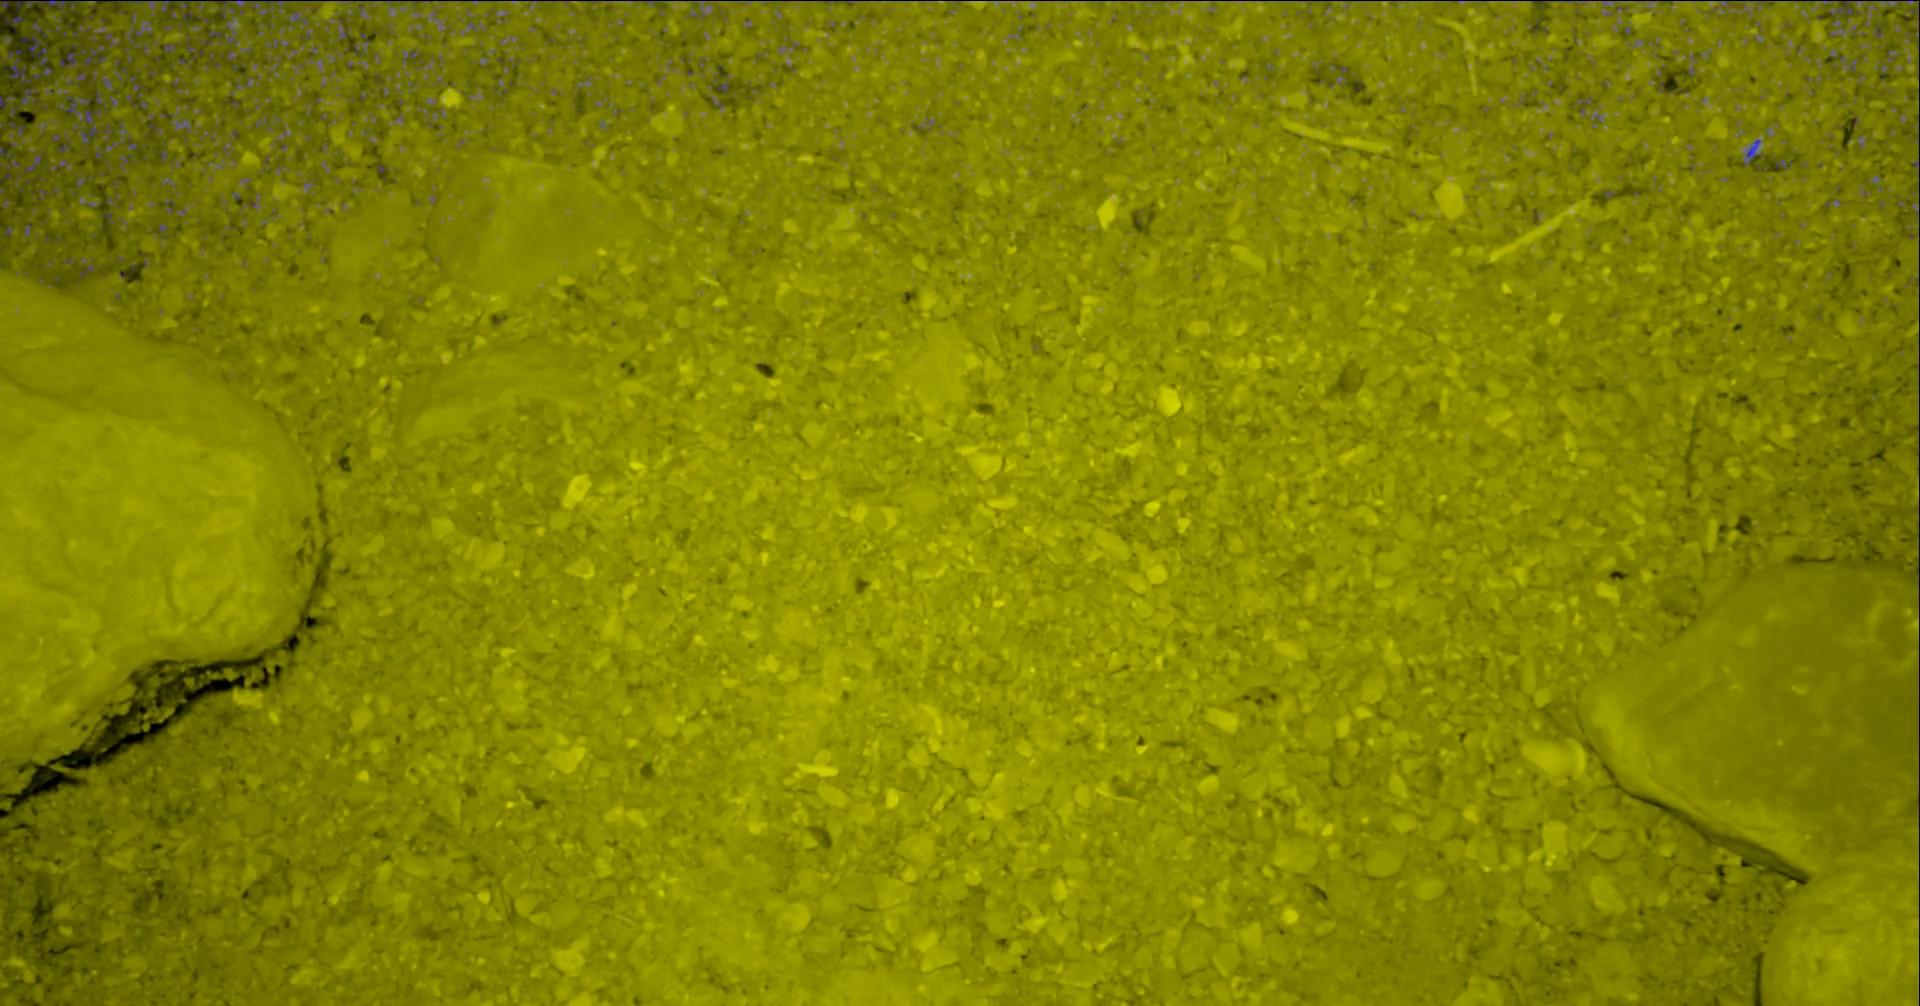ant: (107, 0, 321, 17), (5, 19, 53, 85), (58, 91, 103, 155), (61, 43, 107, 67), (1825, 0, 1862, 25), (17, 0, 88, 11), (112, 121, 138, 149), (126, 27, 152, 53), (383, 0, 450, 9), (1, 122, 25, 146), (1914, 113, 1920, 203), (1745, 138, 1765, 164), (1897, 0, 1920, 22), (131, 75, 149, 97), (116, 58, 130, 85), (1726, 0, 1774, 8), (25, 151, 43, 171), (284, 11, 309, 25), (22, 86, 38, 104), (121, 154, 136, 171), (404, 50, 422, 64), (58, 135, 72, 151), (179, 117, 193, 131), (1, 95, 17, 105)
